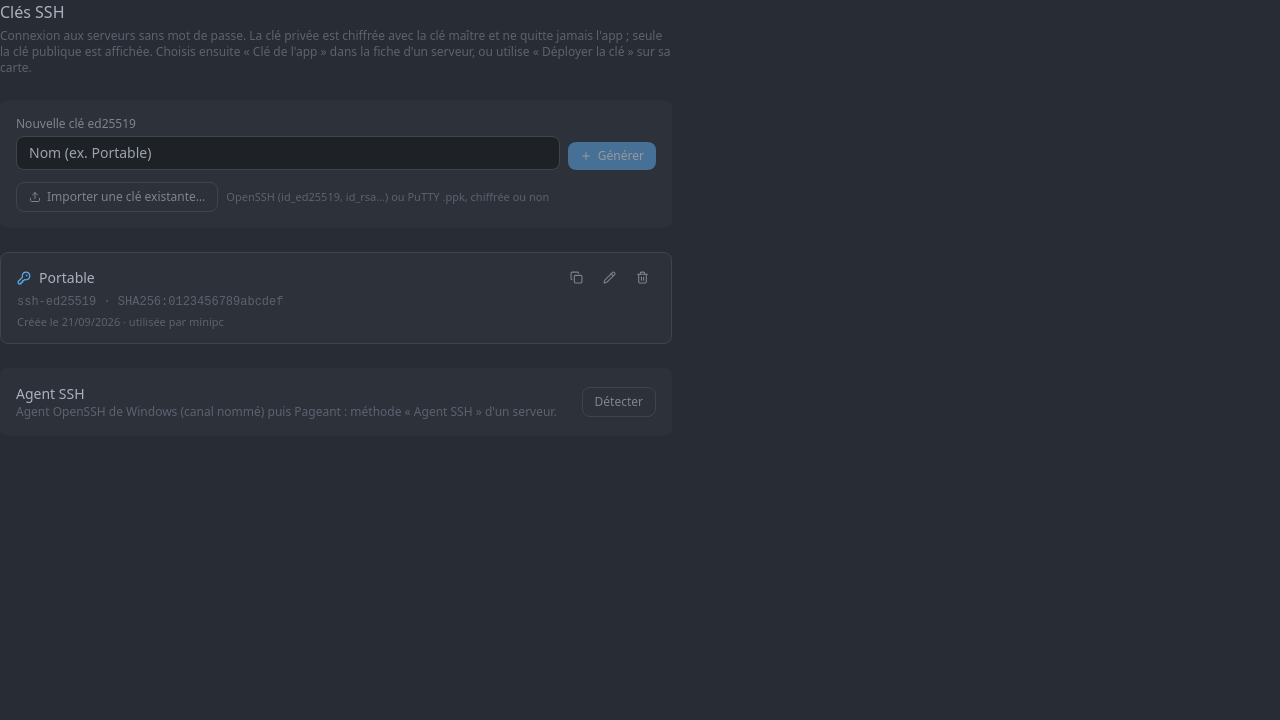
Test: SshKeysSettings › liste les clés et bloque la suppression d'une clé utilisée par un serveur
This screenshot has width=1280, height=720.
Expected: the text "Portable" is shown, [39,268,95,286]
Expected: the text "Créée le 21/09/2026 · utilisée par minipc" is shown, [17,314,224,329]
Click the button named "Supprimer la clé Portable": [642, 278] box [630,265,655,290]
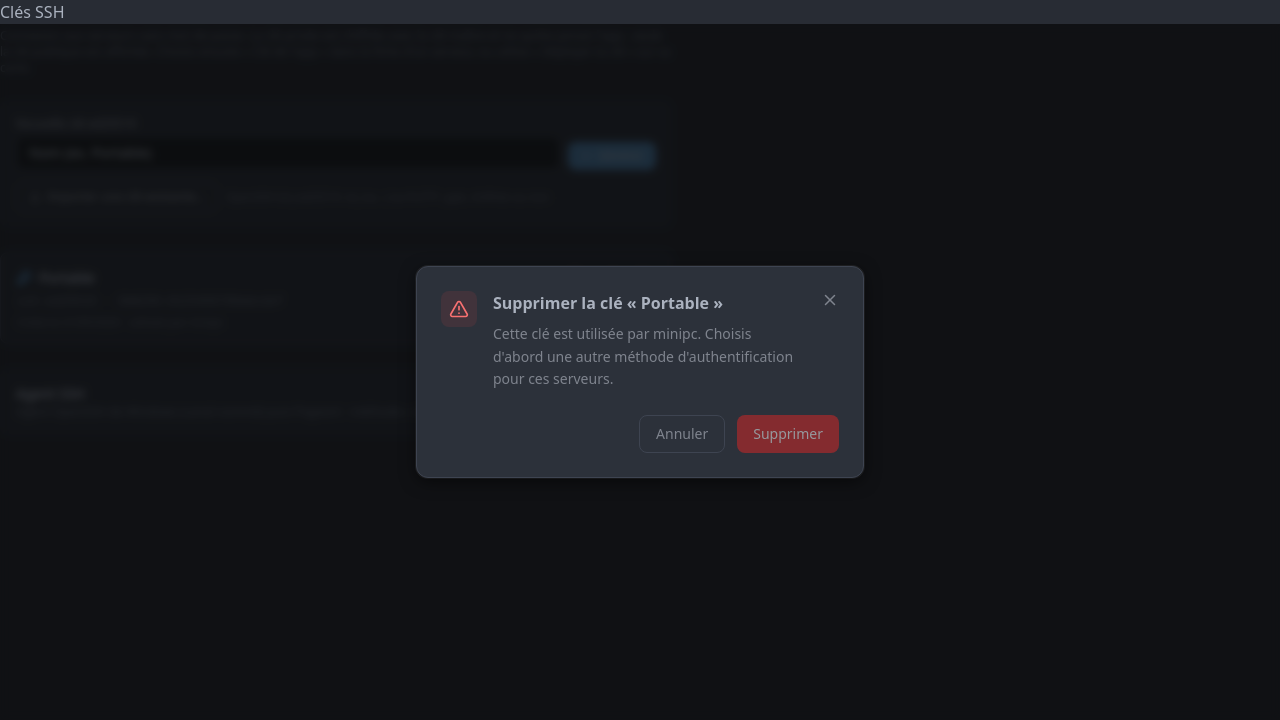
Expected: the text "Choisis d'abord une autre méthode" is shown, [493,324,793,388]
Expected: the button "Supprimer" is disabled, [737,415,839,453]
